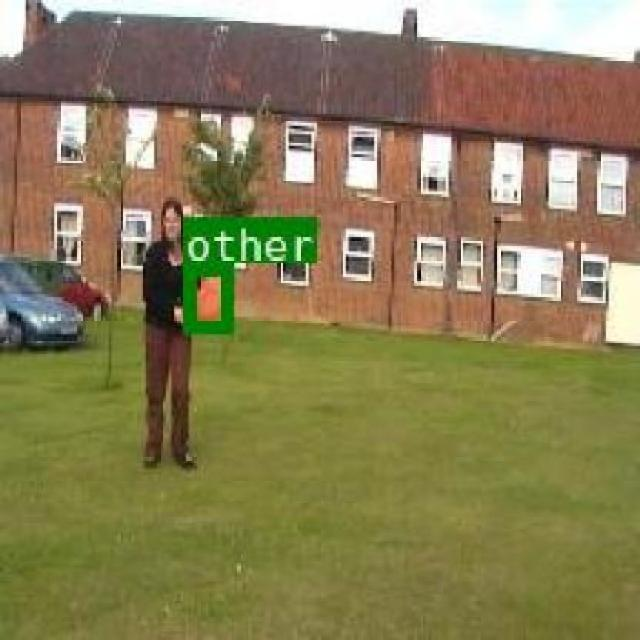other: (182, 262, 230, 330)
